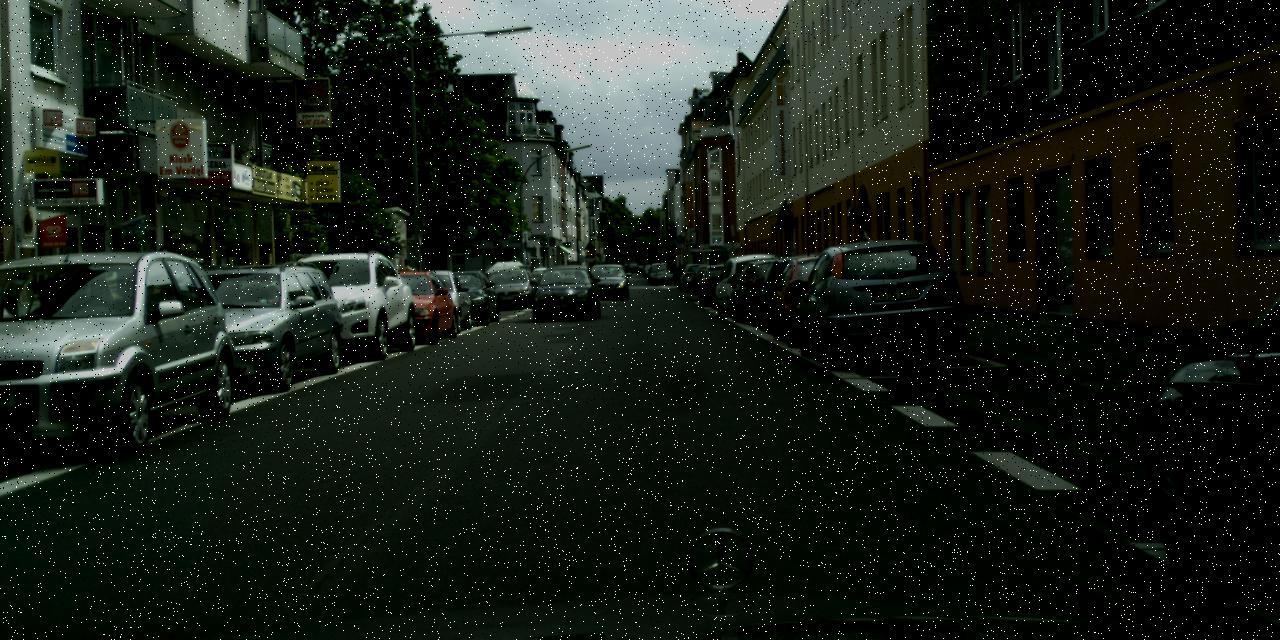ped: (398, 258, 418, 308)
